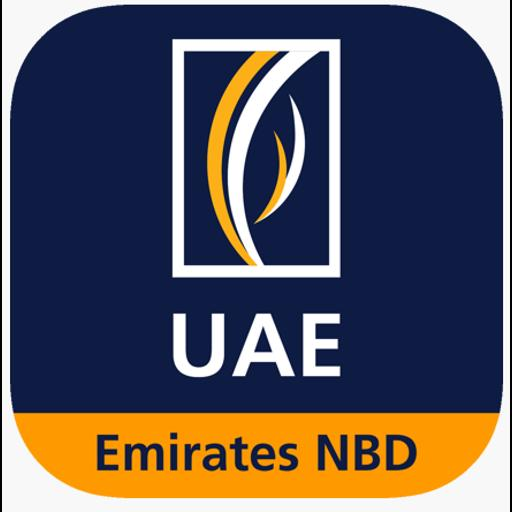Emirates NBD: (2, 0, 510, 512)
